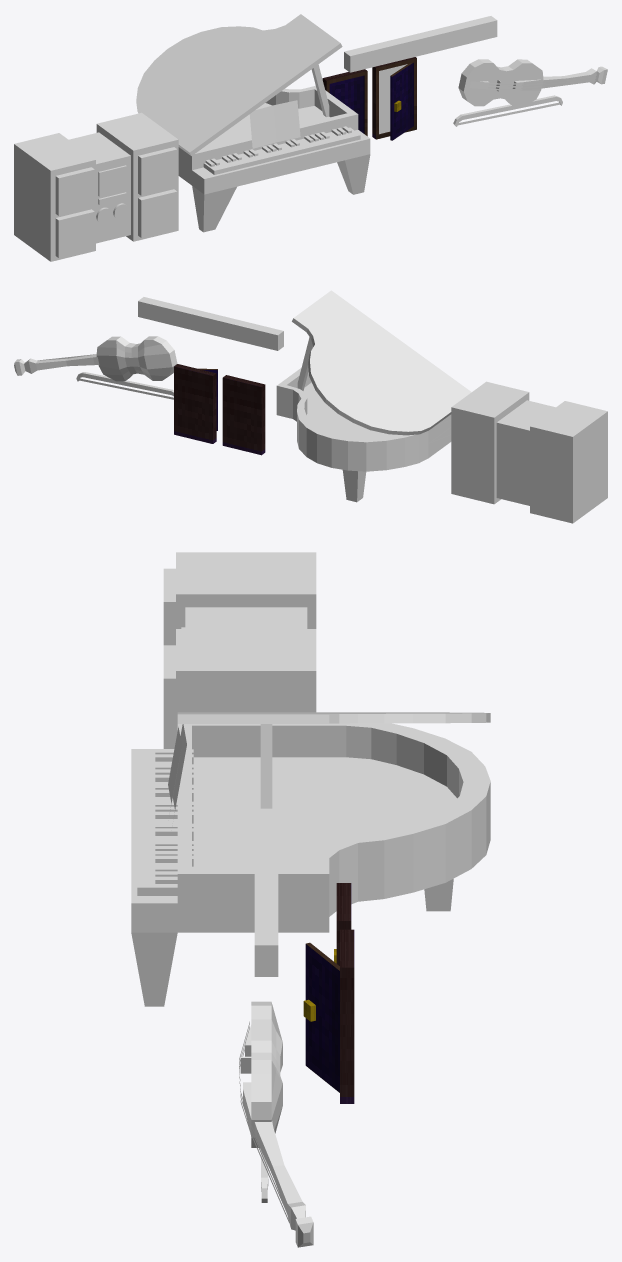
The model's file is Sleepy_AssetPack_2-2.fbx.
3 renders of one model, top to bottom at view 1: azimuth 30°, elevation 25°; view 2: azimuth 150°, elevation 25°; view 3: azimuth 270°, elevation 25°, orthographic. The views are drawn at different scales.
Visible parts, largest first — view 1: Cube.011, Cube.012, Cube.013, Cube.010, Cube.002, Cube.003, Cube.019; view 2: Cube.011, Cube.012, Cube.013, Cube.010, Cube.003, Cube.002; view 3: Cube.011, Cube.012, Cube.013, Cube.019, Cube.010, Cube.002, Cube.003.
Part boxes in pixels (x1=…): Cube.011: x1=136, y1=14, x2=370, y2=232; Cube.012: x1=14, y1=112, x2=178, y2=261; Cube.013: x1=453, y1=59, x2=607, y2=126; Cube.010: x1=344, y1=16, x2=497, y2=72; Cube.002: x1=372, y1=57, x2=416, y2=139; Cube.003: x1=322, y1=69, x2=367, y2=136; Cube.019: x1=390, y1=62, x2=413, y2=140; Cube.011: x1=276, y1=290, x2=471, y2=502; Cube.012: x1=451, y1=381, x2=607, y2=523; Cube.013: x1=14, y1=336, x2=177, y2=399; Cube.010: x1=138, y1=297, x2=283, y2=350; Cube.003: x1=222, y1=375, x2=265, y2=455; Cube.002: x1=174, y1=364, x2=216, y2=443; Cube.011: x1=131, y1=712, x2=490, y2=1006; Cube.012: x1=163, y1=552, x2=316, y2=748; Cube.013: x1=239, y1=1001, x2=313, y2=1247; Cube.019: x1=303, y1=942, x2=339, y2=1092; Cube.010: x1=254, y1=808, x2=278, y2=976; Cube.002: x1=340, y1=929, x2=354, y2=1103; Cube.003: x1=334, y1=883, x2=351, y2=965.
Size of the model in its own units: 6782 by 1623 by 1881.
